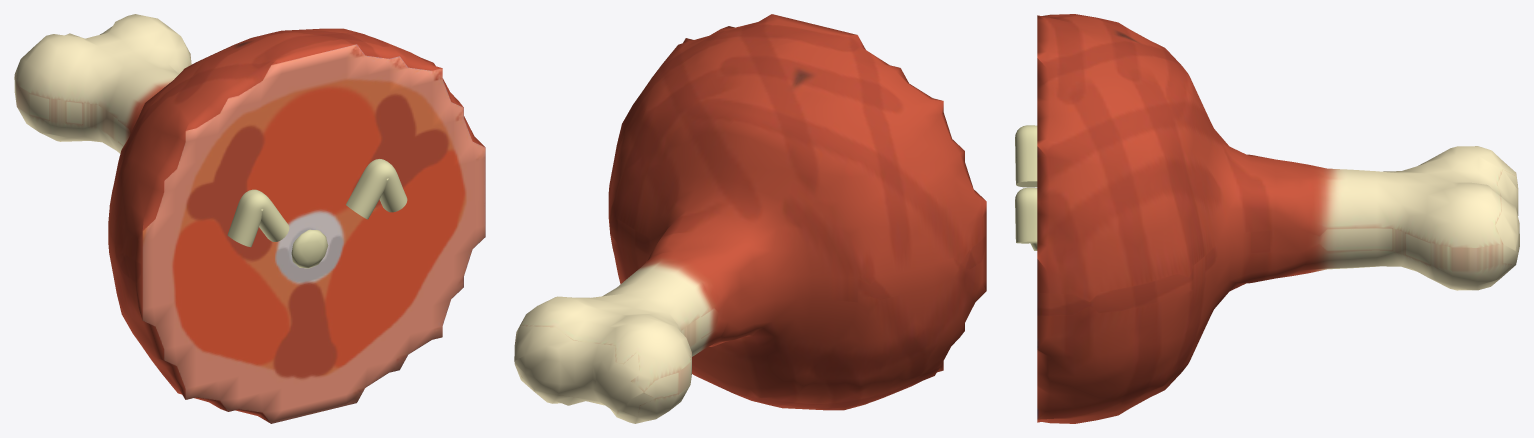
File: ham.glb
3 renders of one model, left to right at view 1: azimuth 30°, elevation 25°; view 2: azimuth 150°, elevation 25°; view 3: azimuth 270°, elevation 25°, orthographic.
Parts seen in each view (by area): view 1: Cube.001, NurbsCurve, Icosphere; view 2: Cube.001; view 3: Cube.001, NurbsCurve.
Boxes of the visible parts, left/top/right/bottom form: Cube.001: left=14, top=14, right=485, bottom=423; NurbsCurve: left=227, top=159, right=407, bottom=247; Icosphere: left=291, top=229, right=328, bottom=268; Cube.001: left=514, top=14, right=986, bottom=423; Cube.001: left=1037, top=14, right=1519, bottom=423; NurbsCurve: left=1015, top=125, right=1037, bottom=243.
Bounding box in the file's own units: 1.61 × 1.61 × 2.01.
Materials: 3 (1 with a texture image).
